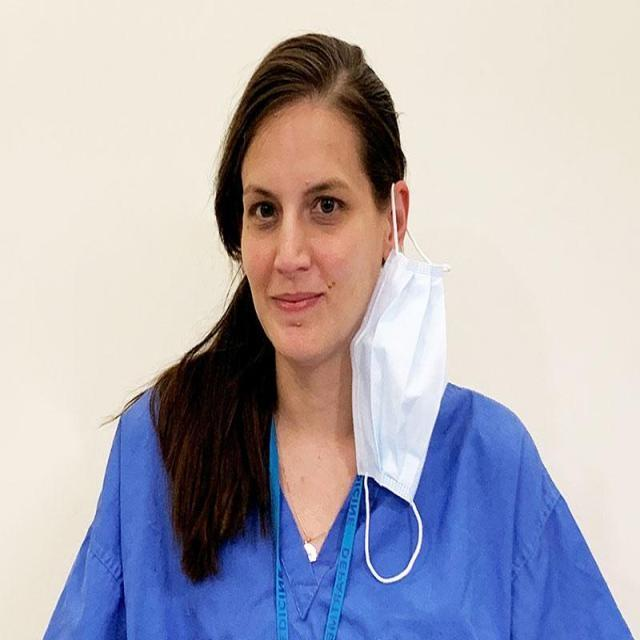hairnet: (226, 142, 450, 460)
